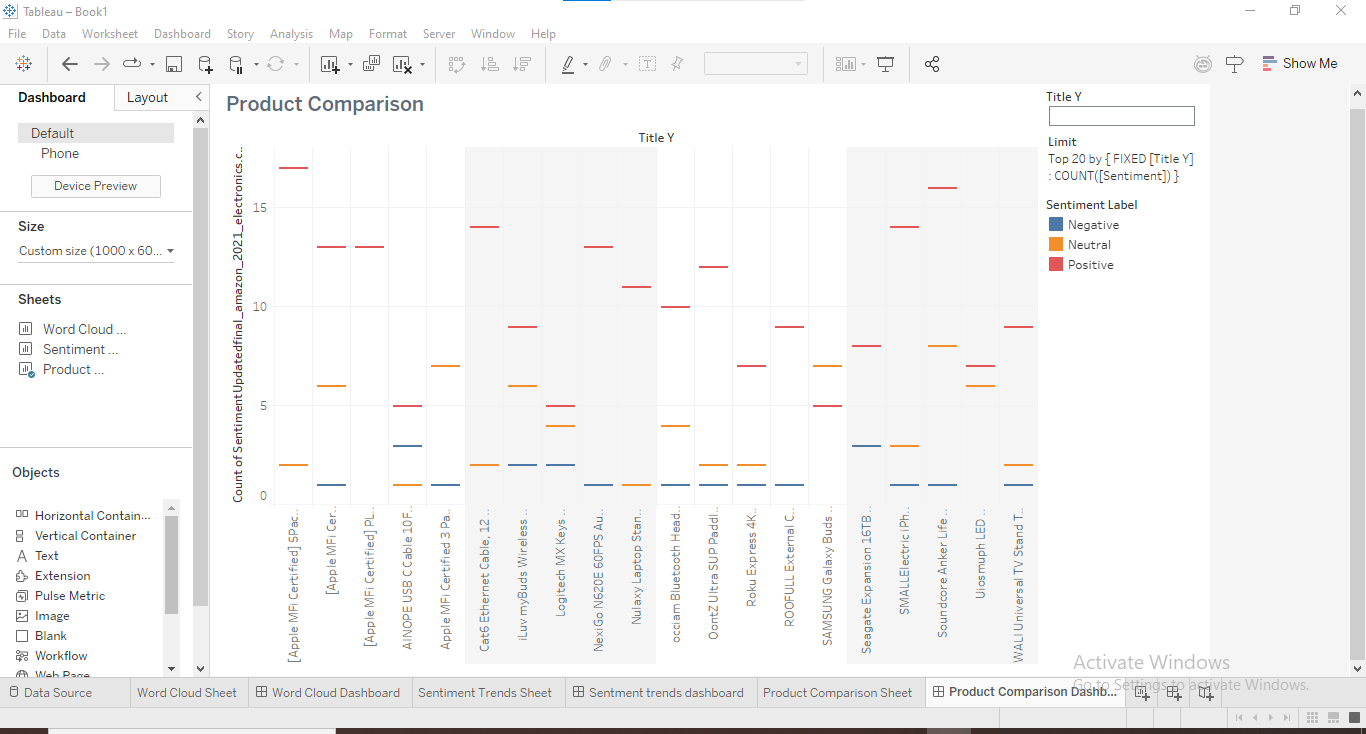

The dashboard page shown, as its layout file describes it:
{"tool":"tableau","page":{"name":"Product Comparison Dashboard","canvas":[1000,600],"ordinal":1},"visuals":[{"type":"worksheet","title":"Product Comparison Sheet","mark":"GanttBar","cols":["title_y"],"box":[8,8,824,584]},{"type":"filter","title":"Product Comparison Sheet","param":"[federated.1t3j97001l90qf15kqw2o16jm9m2].[none:title_y:nk]","box":[832,8,160,108]},{"type":"legend","title":"Product Comparison Sheet","param":"[federated.1t3j97001l90qf15kqw2o16jm9m2].[none:sentiment_label:nk]","box":[832,116,160,86]}]}

Visuals, with their boxes on the page's 1000x600 design canvas (x1, y1, x2, y2). These are canvas units, not pixel positions in the 1366x734 screenshot, which may show the page scaled, cropped or inside an application window:
"Product Comparison Sheet" worksheet (GanttBar marks): detection(8, 8, 832, 592)
"Product Comparison Sheet" filter: detection(832, 8, 992, 116)
"Product Comparison Sheet" legend: detection(832, 116, 992, 202)
